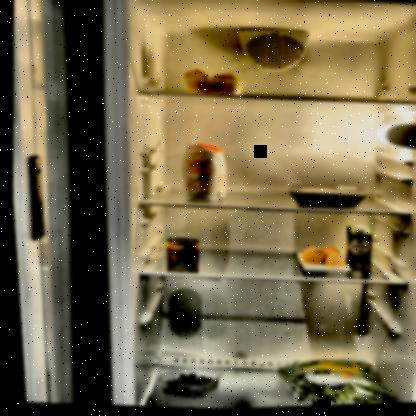blueberries: (152, 364, 223, 402)
corn: (158, 236, 197, 268)
eggs: (295, 245, 348, 274)
heavy_cream: (339, 225, 374, 277)
potato: (180, 68, 243, 98)
spinach: (265, 353, 403, 408)
